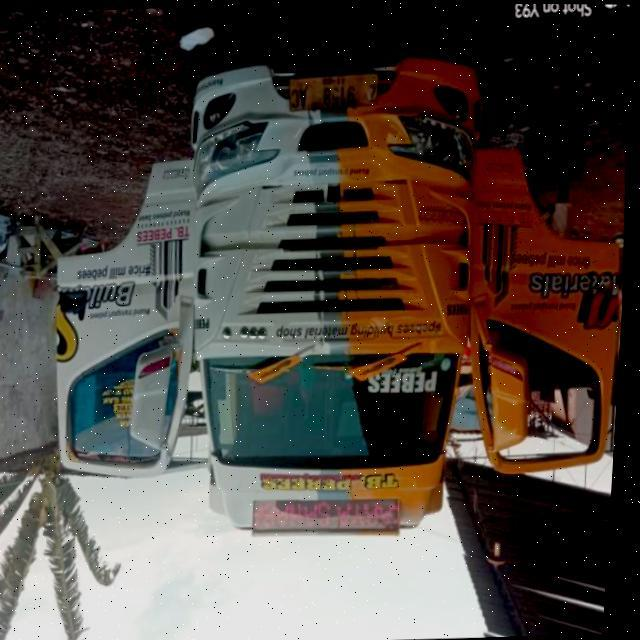truck: (41, 32, 638, 546)
